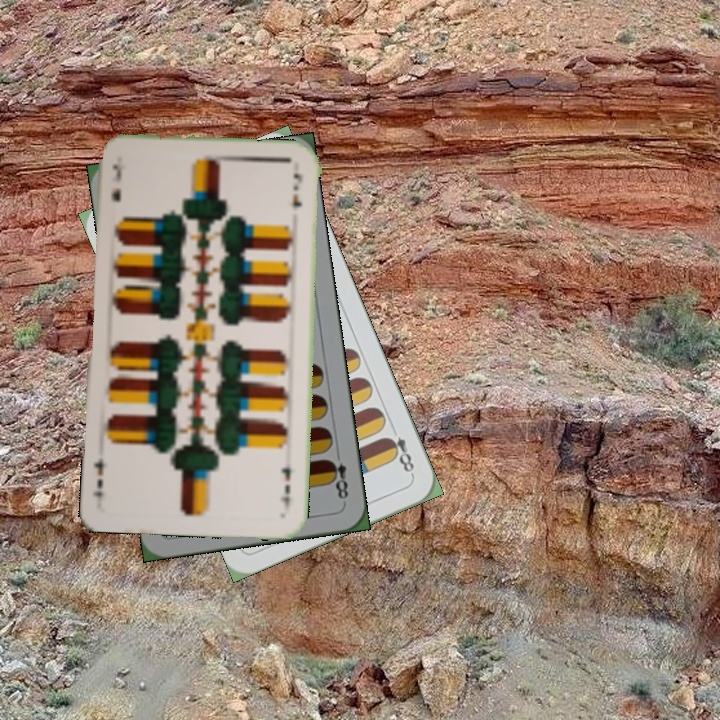E7: (277, 462, 294, 513), (108, 160, 125, 204)
E8: (382, 432, 417, 479), (324, 447, 351, 506)
